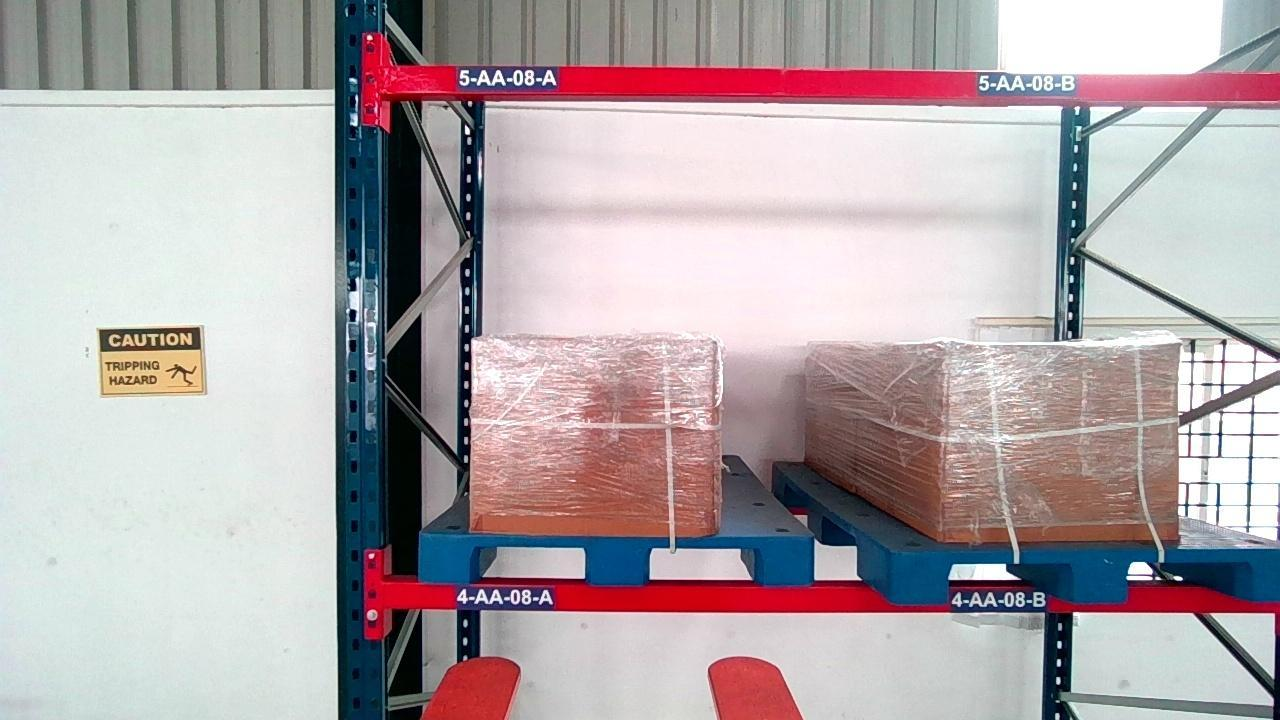h_rack: (391, 65, 1280, 100), (382, 583, 1271, 612)
small_pallet: (888, 545, 1280, 600), (421, 536, 811, 585)
